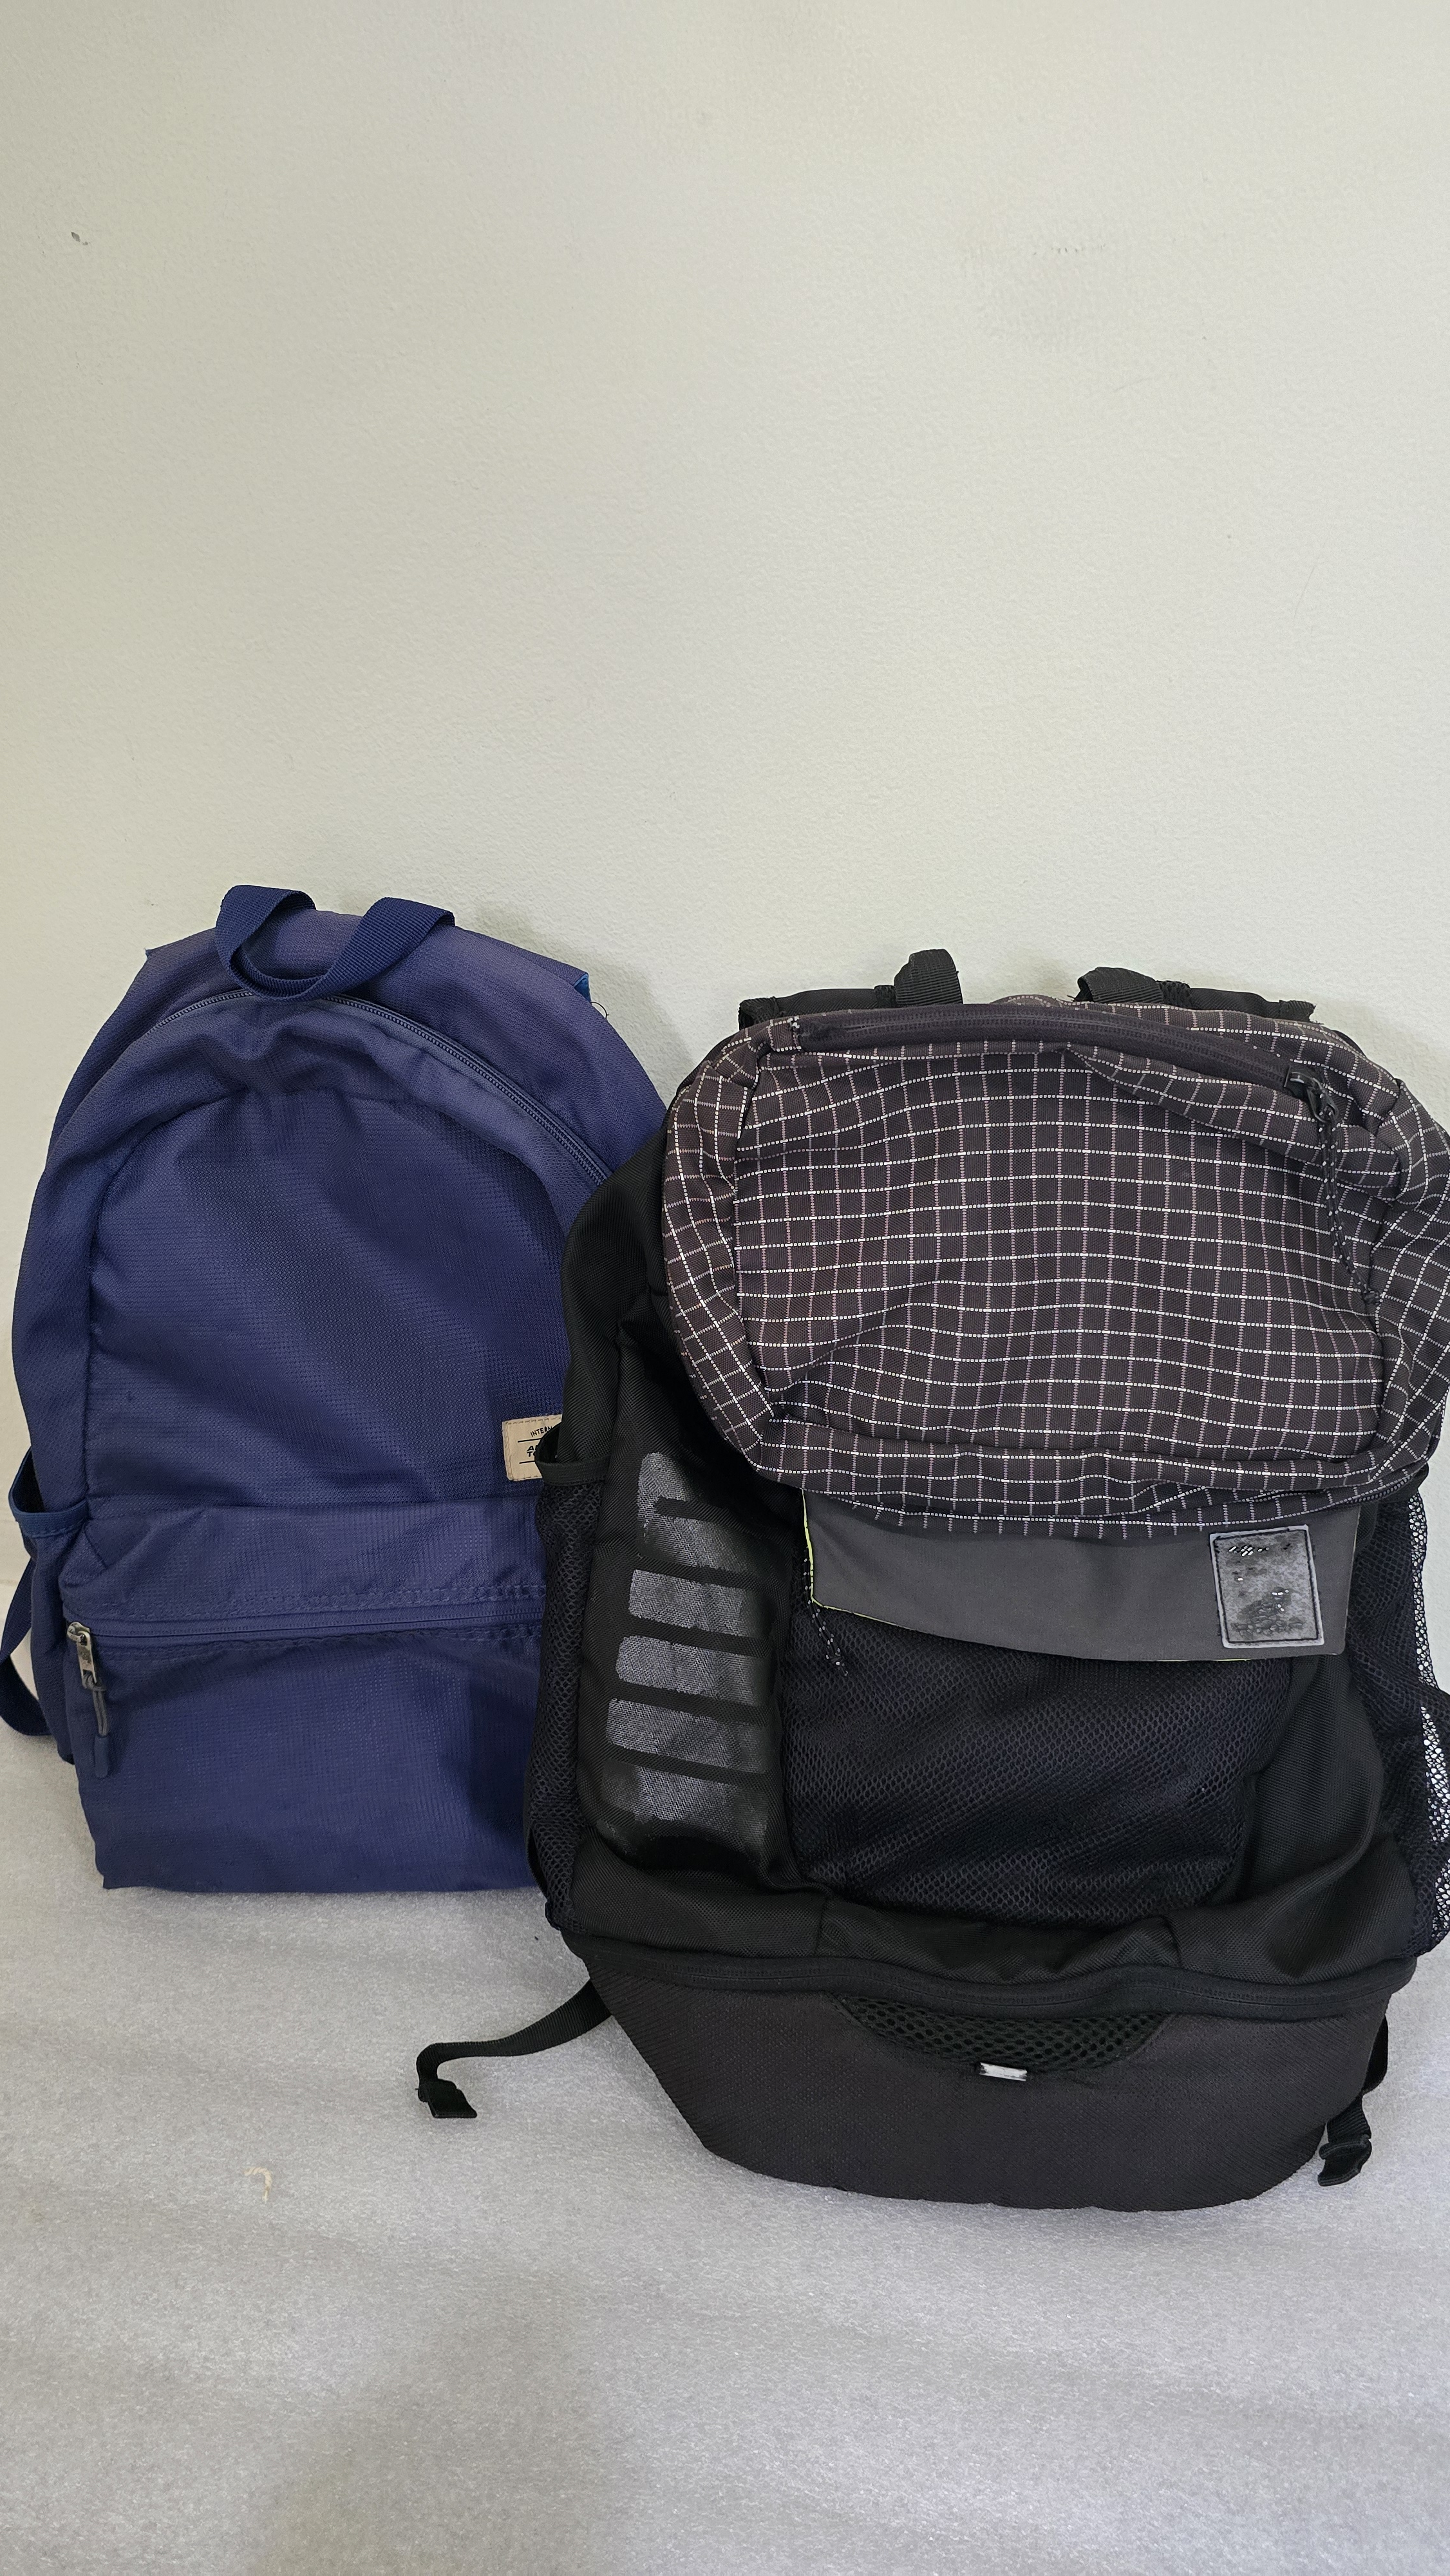bag: (568, 987, 1450, 2212), (42, 833, 686, 1985)
